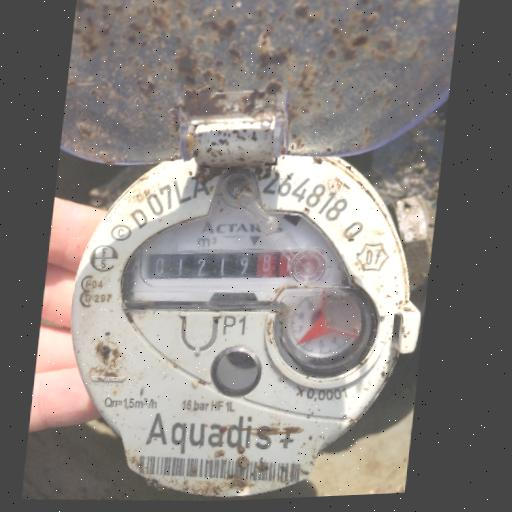0: (148, 253, 170, 279)
1: (212, 251, 235, 279), (169, 253, 192, 279), (277, 252, 298, 278)
2: (190, 253, 213, 280)
8: (256, 251, 279, 279)
9: (234, 251, 257, 279)
border_water_meter_number: (137, 237, 335, 301)
